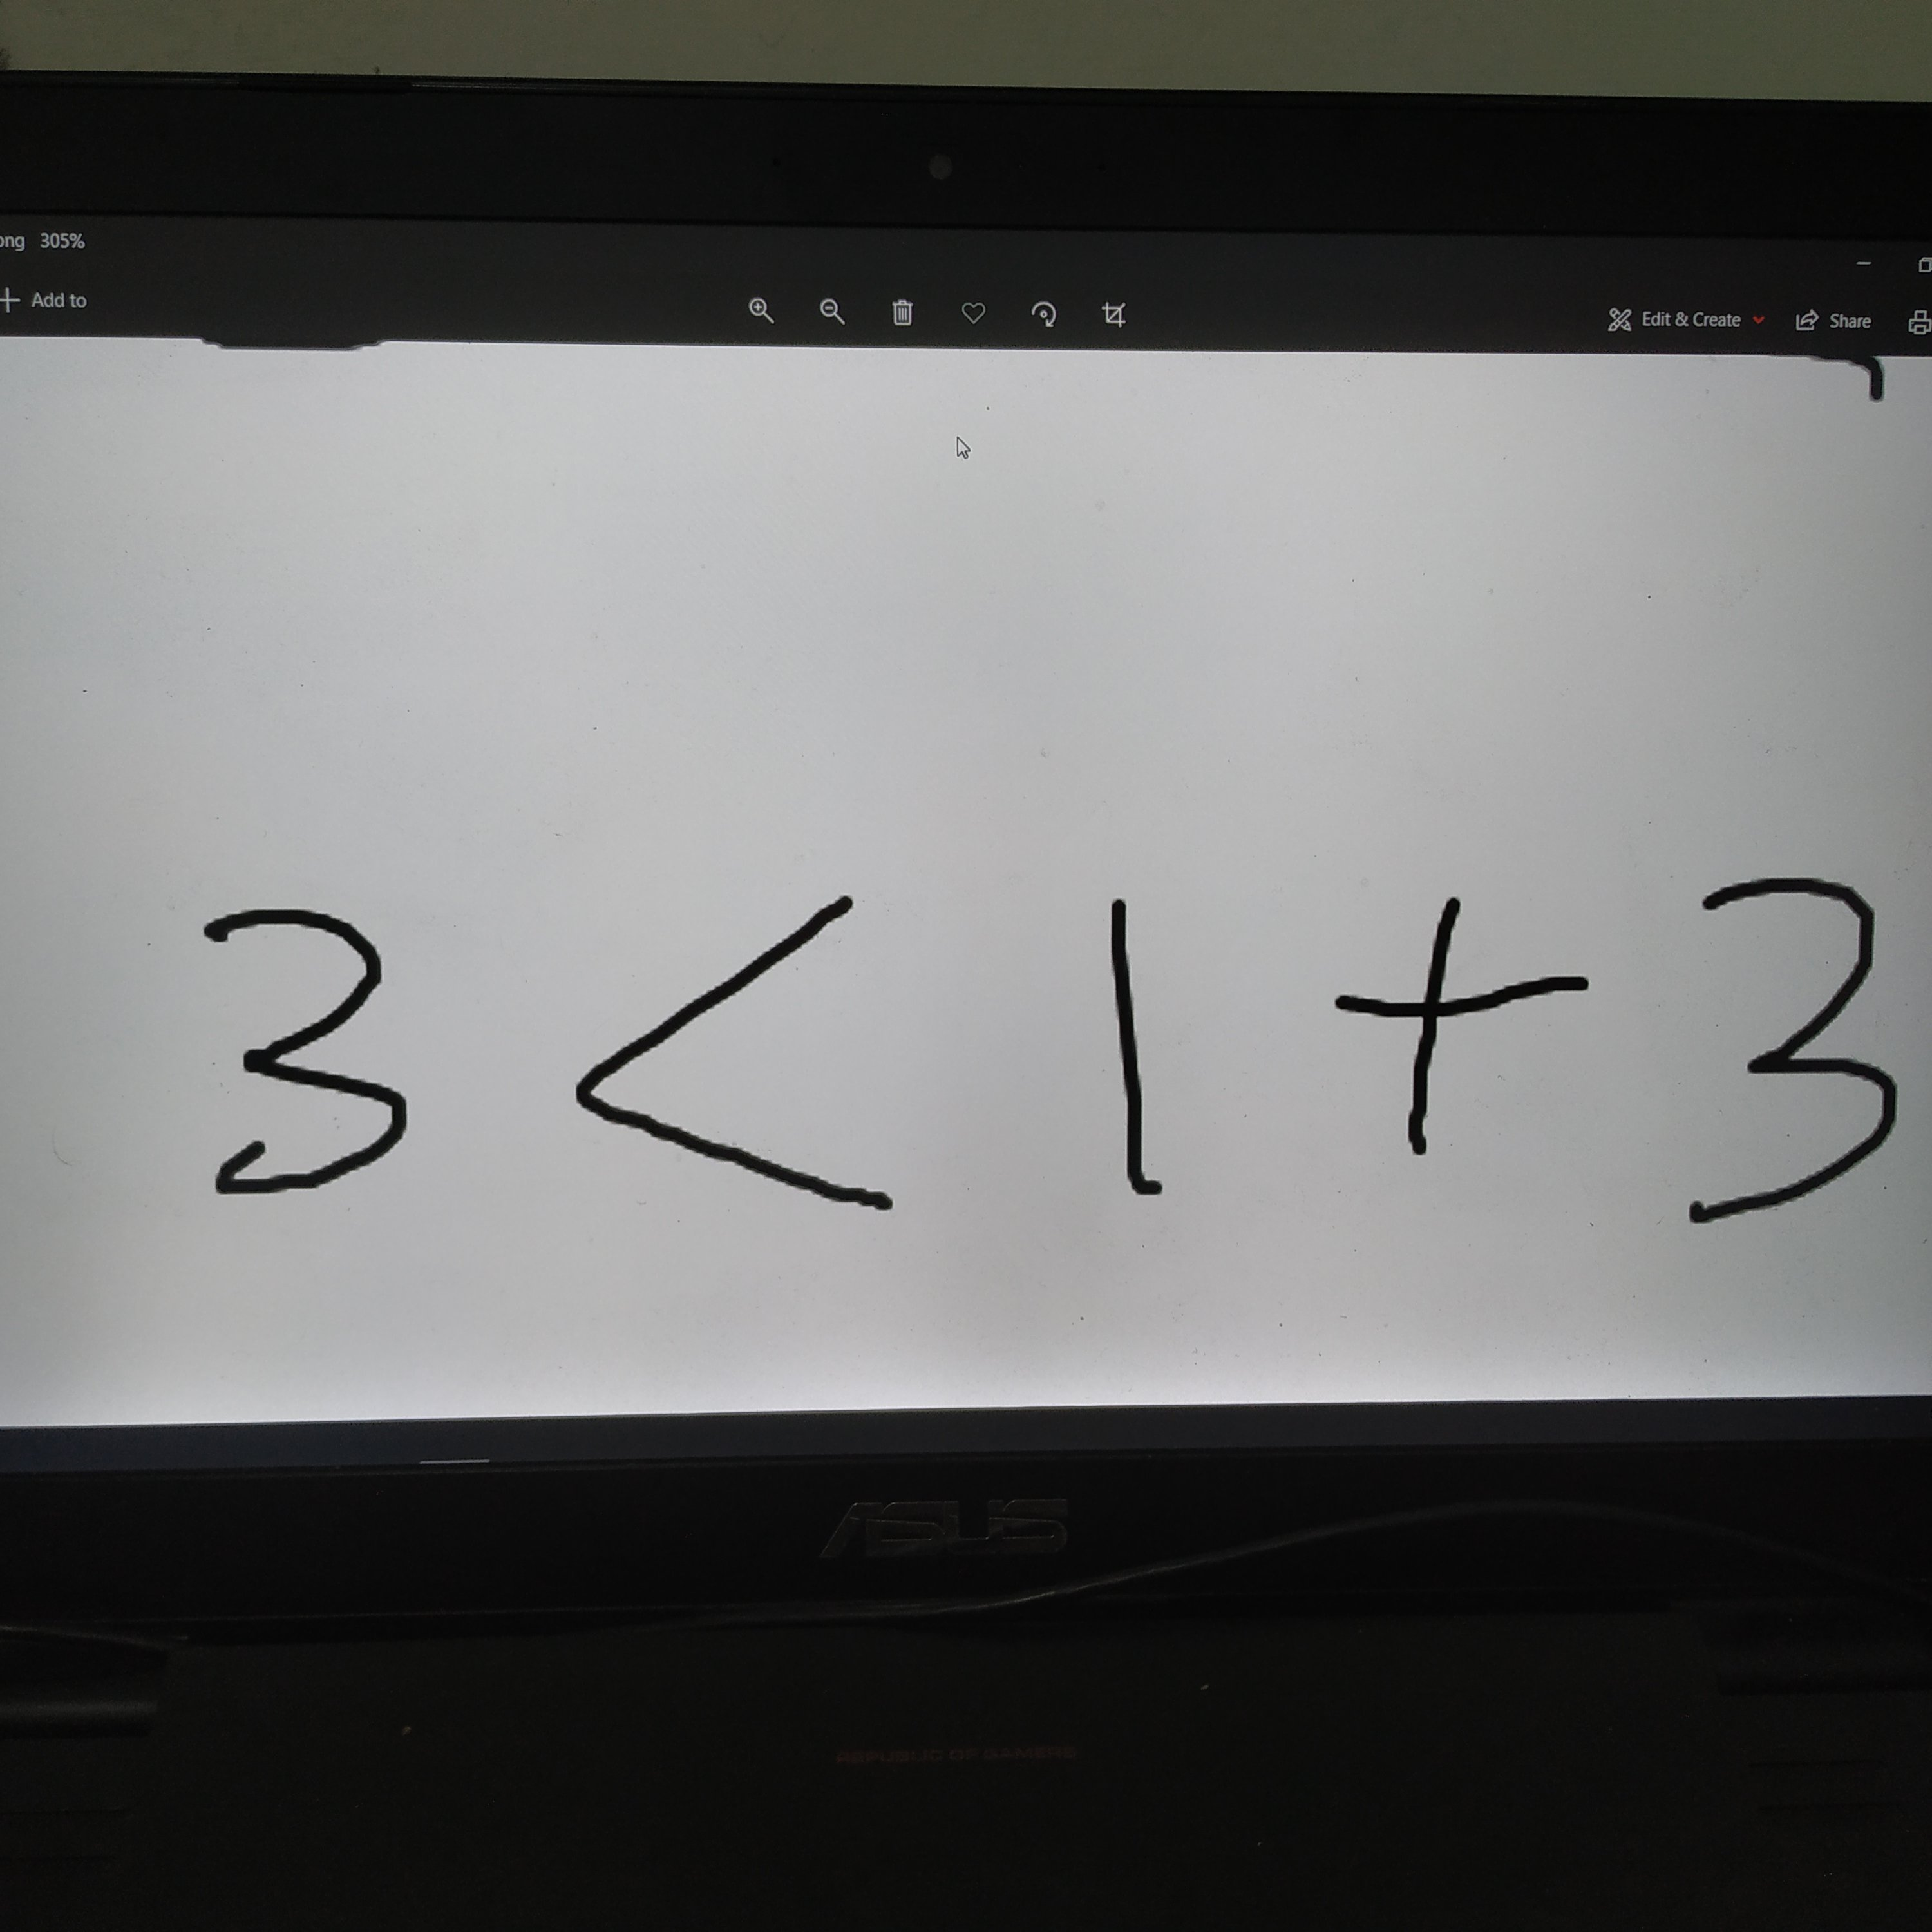lessthan: (559, 887, 942, 1238)
num1: (1072, 897, 1187, 1233)
num3: (158, 887, 467, 1215), (1650, 864, 1911, 1236)
sum: (1308, 884, 1616, 1168)
